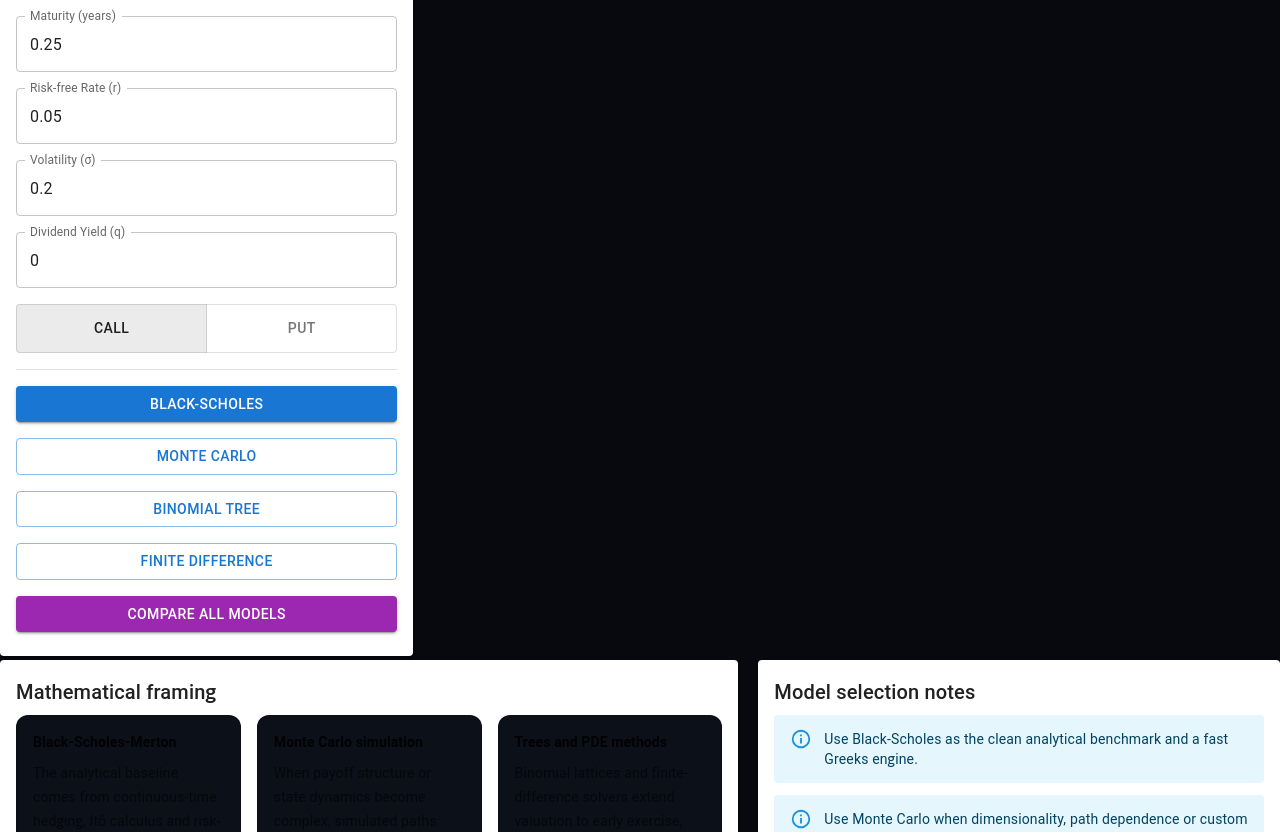
PricingPage flow › prices with Black-Scholes and shows price plus Greeks
This screenshot has width=1280, height=832.
(page scrolled)
Click the button "Black-Scholes".
click(207, 404)  # box [16,386,397,422]
(page scrolled)
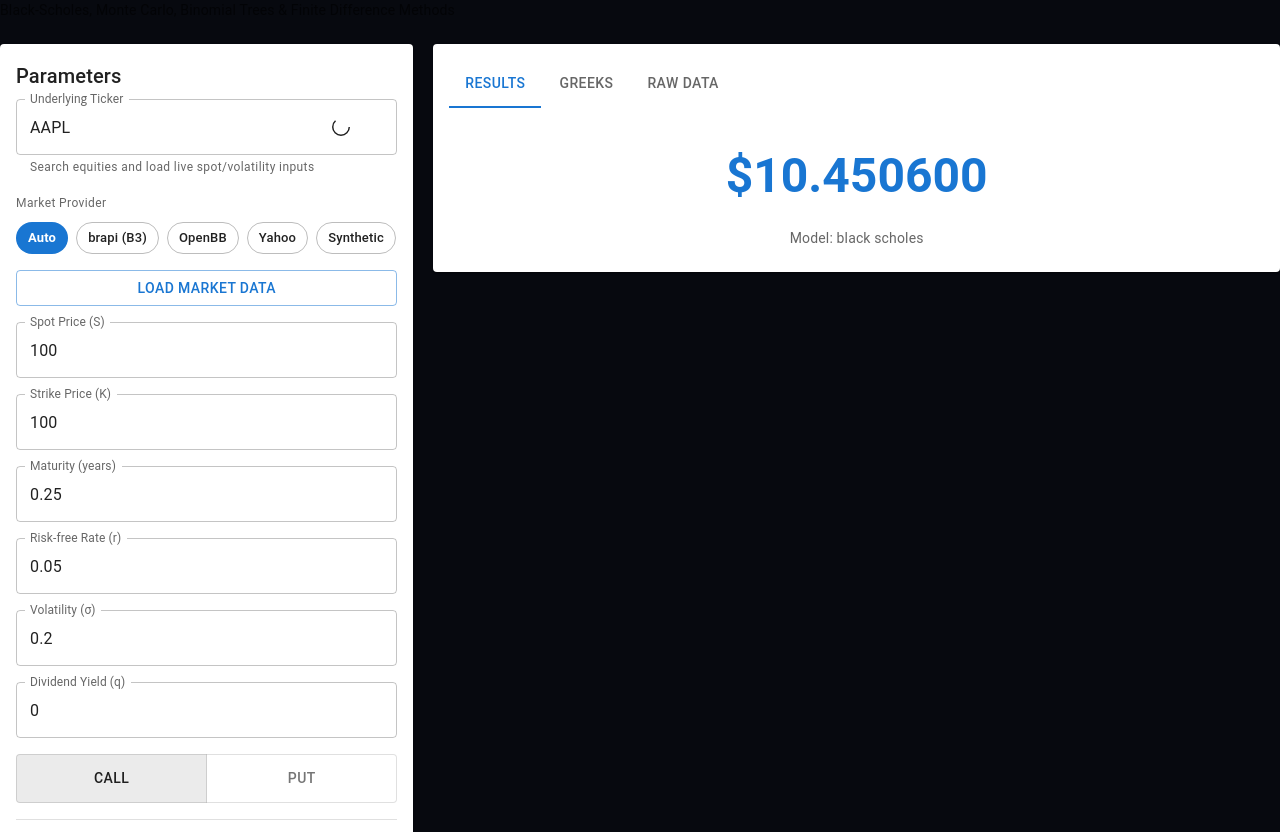
Now the heading "$10.450600" is shown, box [726,147,988,204]
Click the tab "Greeks".
click(586, 84)  # box [541,60,631,108]
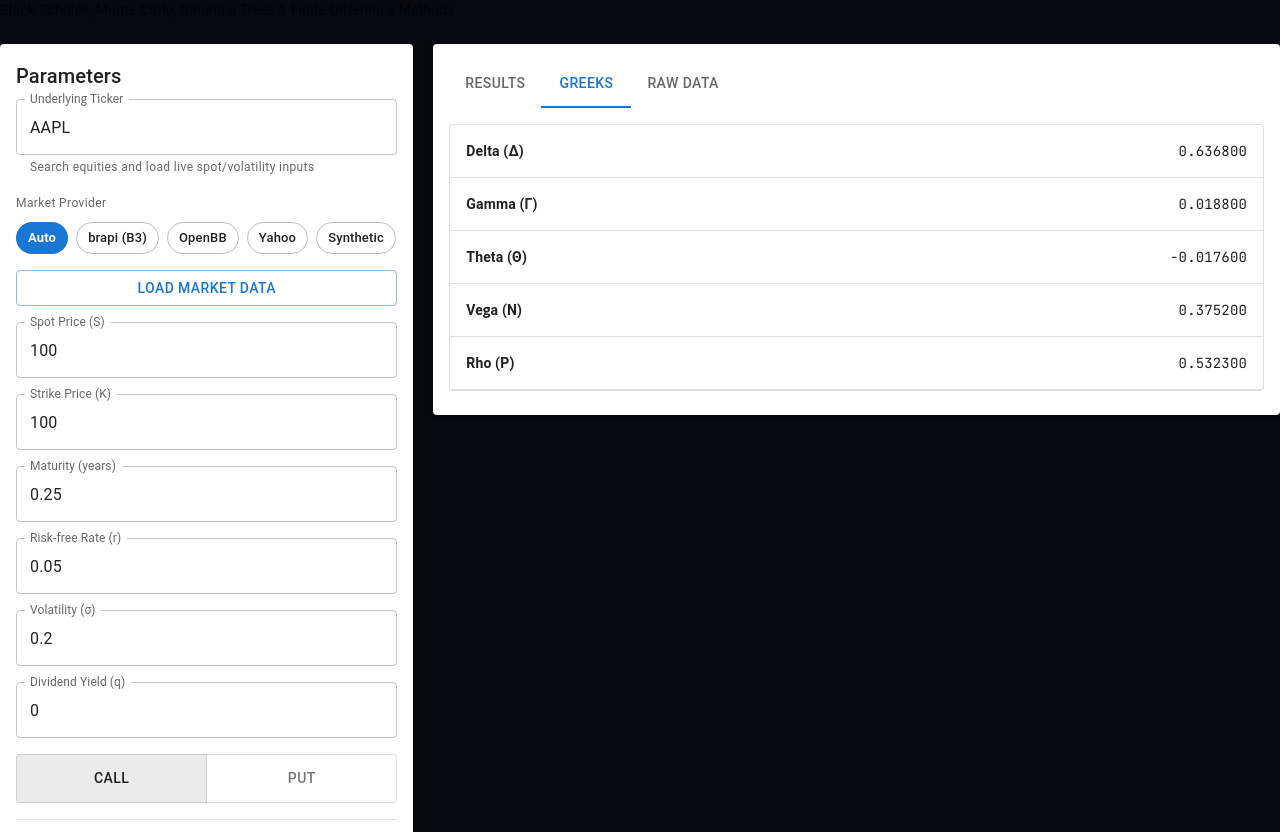
Now the text "0.636800" is shown, box [775,125,1263,178]
